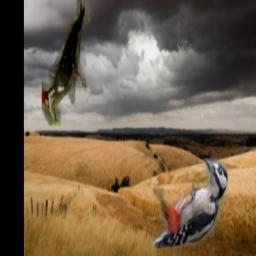Woodpecker: (153, 158, 228, 248), (41, 1, 89, 127)
